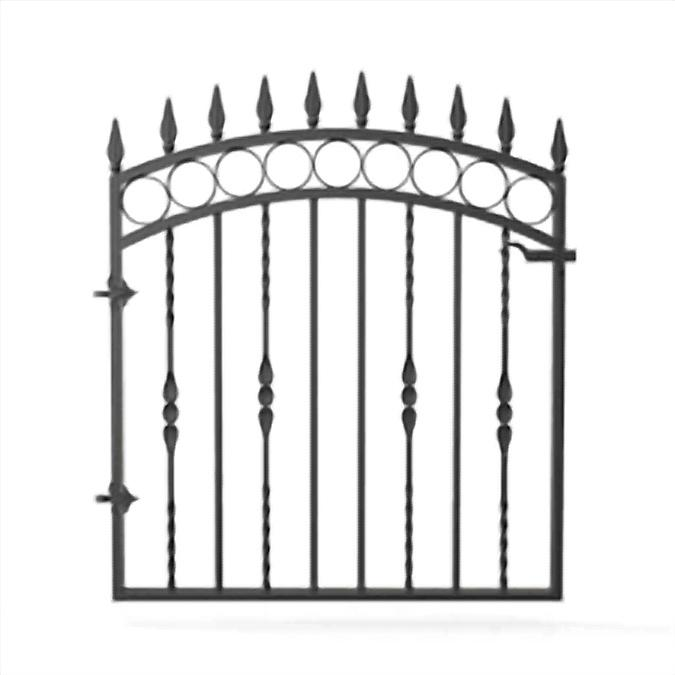Gate: (94, 70, 578, 602)
